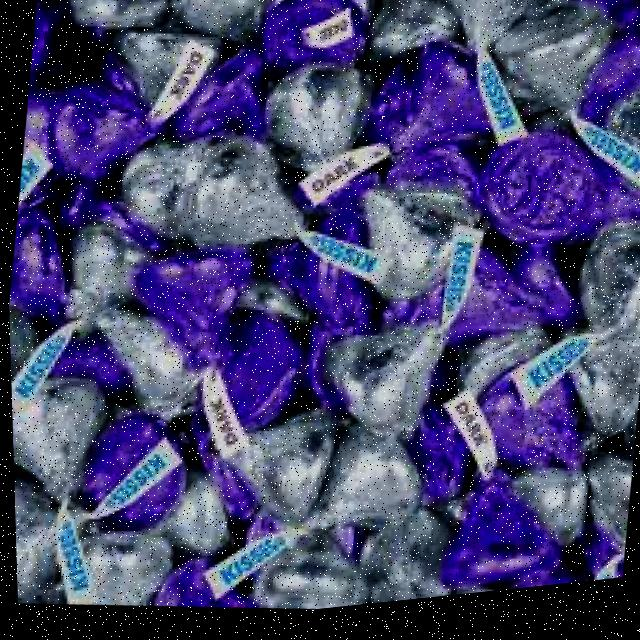kisses: (308, 304, 457, 470), (246, 50, 393, 203), (215, 389, 349, 534), (9, 361, 119, 535), (286, 429, 428, 563), (488, 0, 618, 144), (177, 129, 307, 270), (100, 14, 223, 146), (11, 459, 104, 604), (422, 0, 561, 86), (564, 220, 640, 368)
